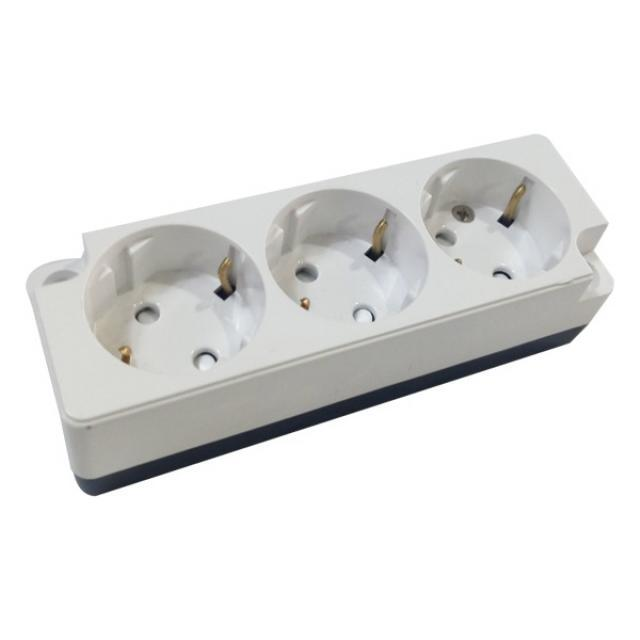typeb: (12, 145, 625, 500)
